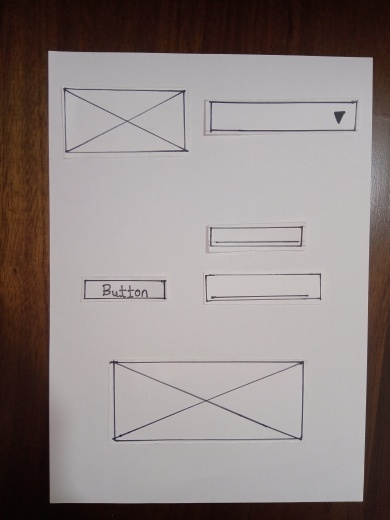button: (80, 276, 170, 300)
dropdown: (210, 103, 354, 136)
img: (114, 360, 303, 441), (65, 87, 184, 153)
text: (203, 270, 327, 304), (210, 227, 306, 252)
